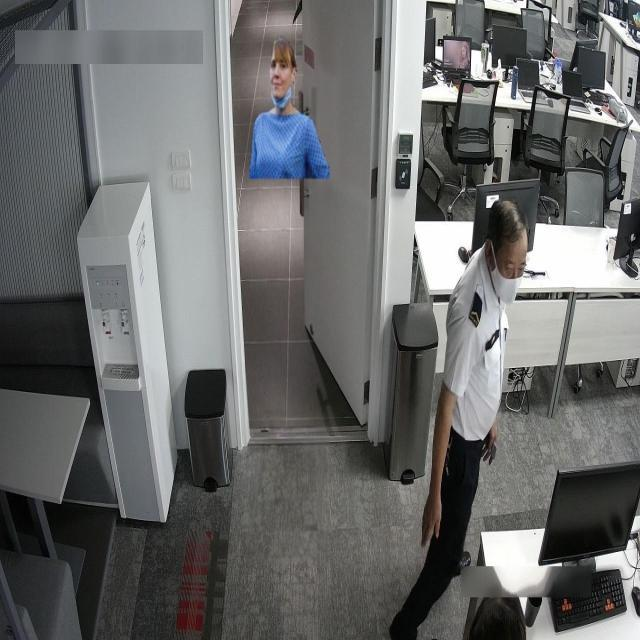hairnet: (270, 41, 296, 109)
